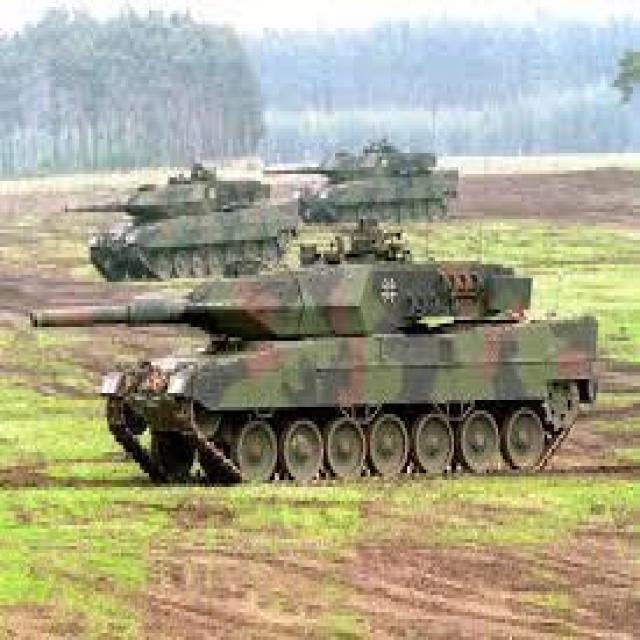MIL_MBT: (29, 217, 599, 485), (88, 158, 298, 280), (261, 134, 458, 217)
